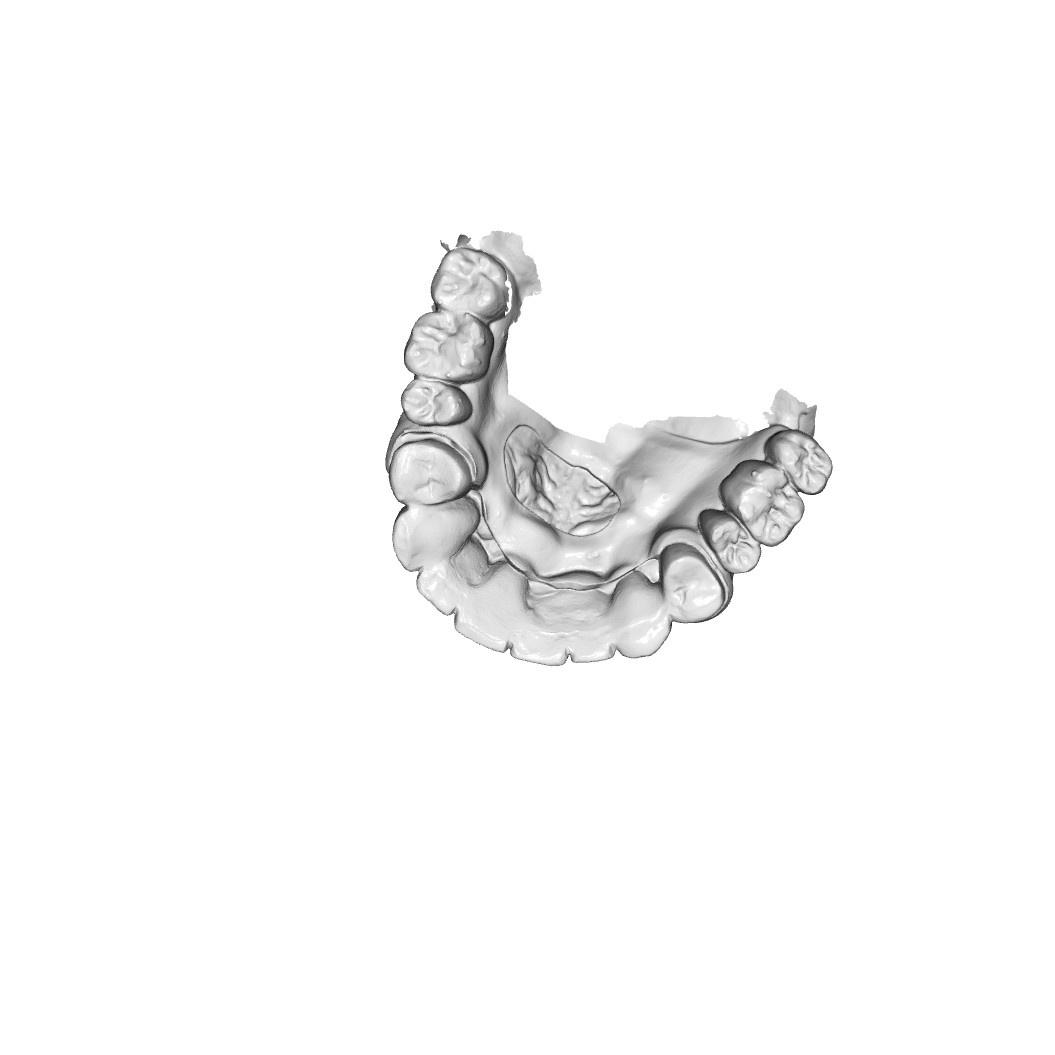canine: (391, 498, 480, 574), (609, 572, 671, 662)
incisor: (451, 585, 518, 659), (505, 601, 572, 669), (562, 593, 615, 665), (413, 557, 464, 622)
molar: (718, 459, 806, 548), (402, 309, 498, 386), (428, 245, 515, 322), (762, 428, 834, 498)
premolar: (381, 435, 475, 510), (652, 541, 728, 626), (393, 378, 476, 429), (700, 511, 762, 579)
